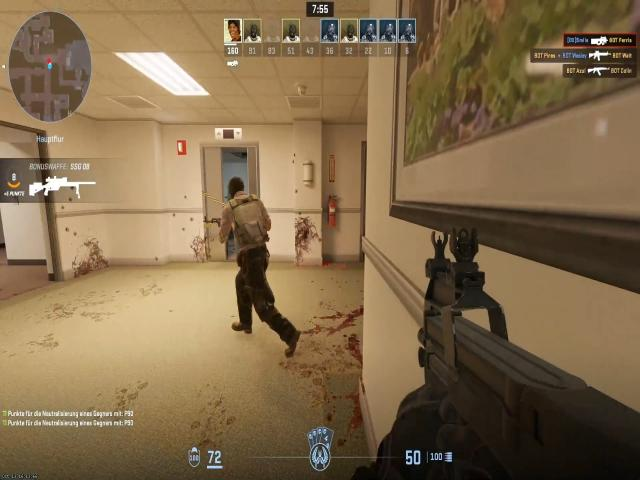T: (218, 172, 275, 272)
T-Head: (222, 171, 250, 205)
